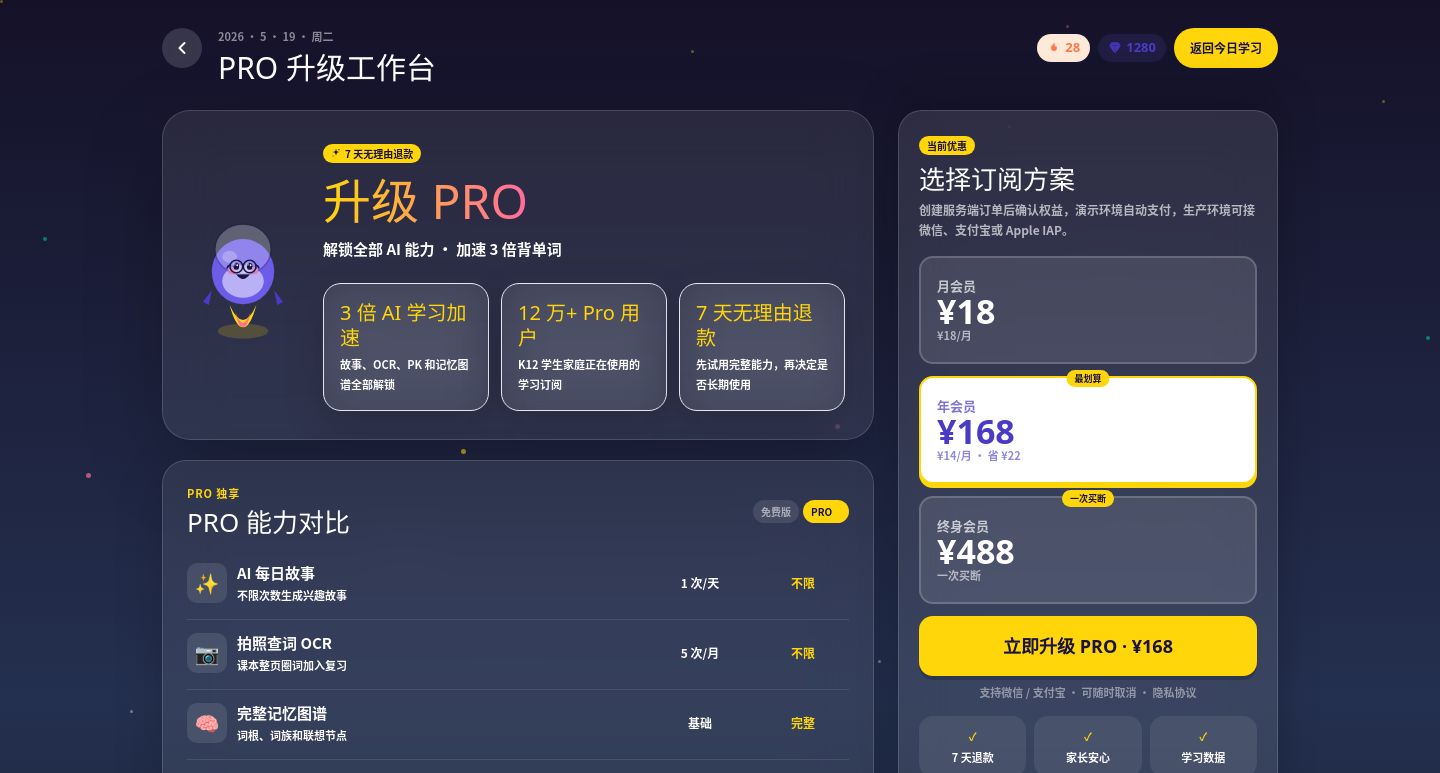
Scenario: ProScreen › renders the PRO feature comparison and three plans with yearly selected
Expected: the heading "升级 PRO" is shown, [323, 168, 528, 233]
Expected: the text "解锁全部 AI 能力 · 加速 3 倍背单词" is shown, [323, 238, 562, 259]
Step 1. Click the button "一次买断 终身会员 ¥488 一次买断" → (963, 525), box [919, 496, 1257, 604]
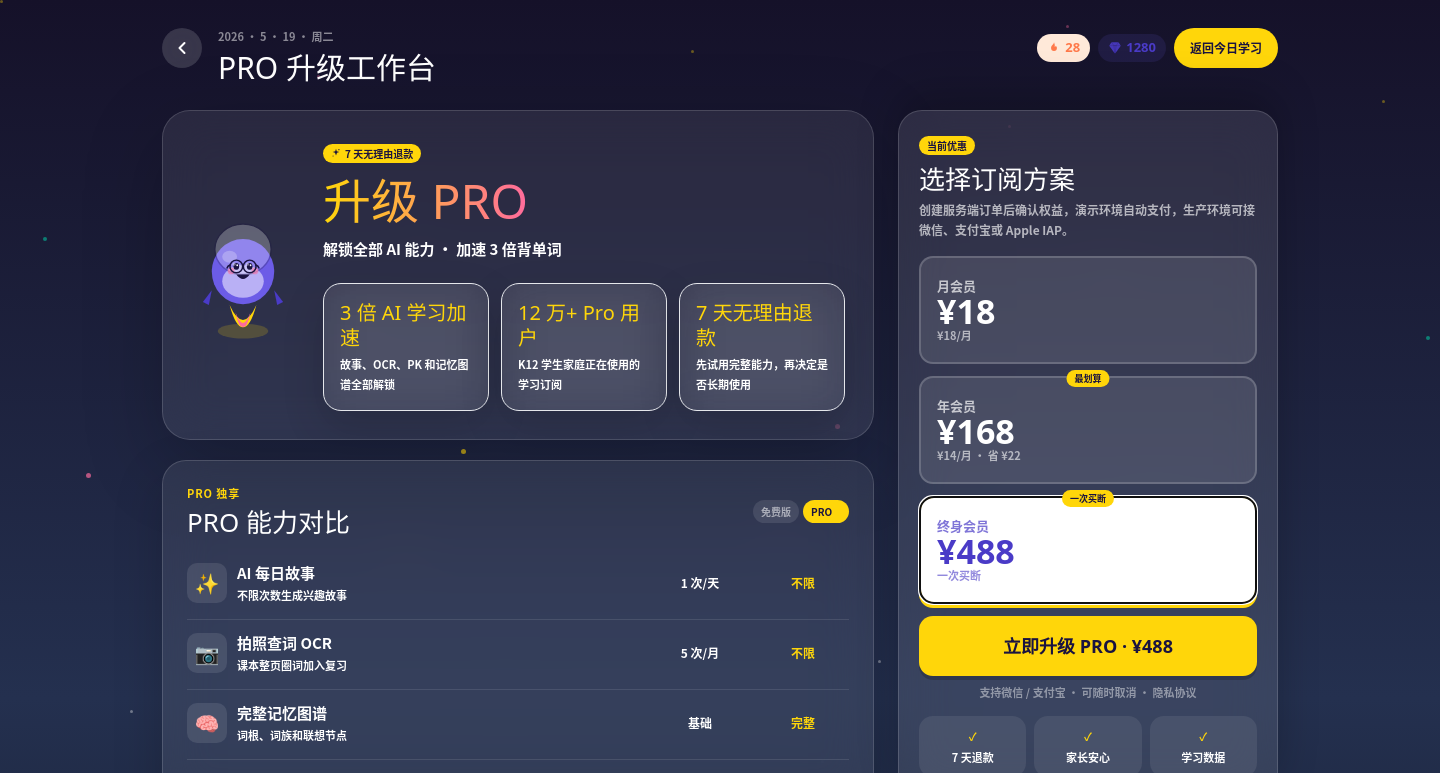
Expected: the button "立即升级 PRO · ¥488" is shown, [919, 616, 1257, 676]
